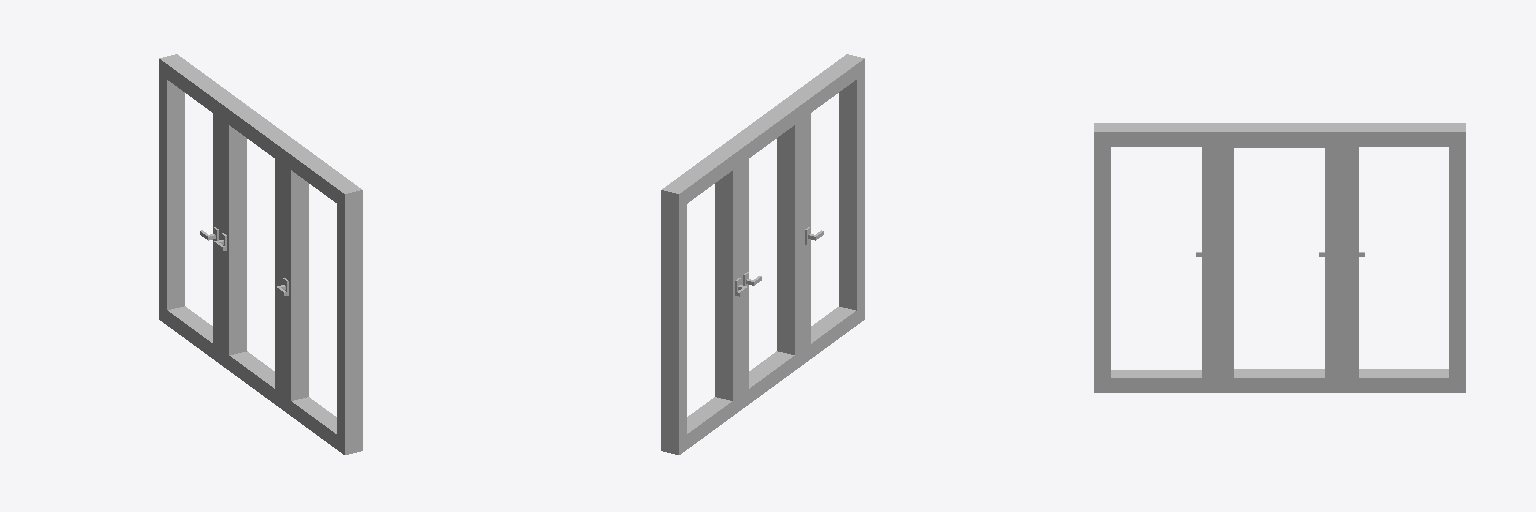
Rendered from window180x140.obj.
3 views of the same model, side by side, from view 1: azimuth 30°, elevation 25°; view 2: azimuth 150°, elevation 25°; view 3: azimuth 270°, elevation 25° (orthographic).
Parts seen in each view (by area): view 1: Куб; view 2: Куб; view 3: Куб.
Part boxes in pixels (x1,y1,x2,y2): Куб: (159, 54, 362, 454); Куб: (661, 54, 864, 454); Куб: (1094, 123, 1465, 392).
Size of the model in its own units: 0.1554 by 1.4 by 1.8.